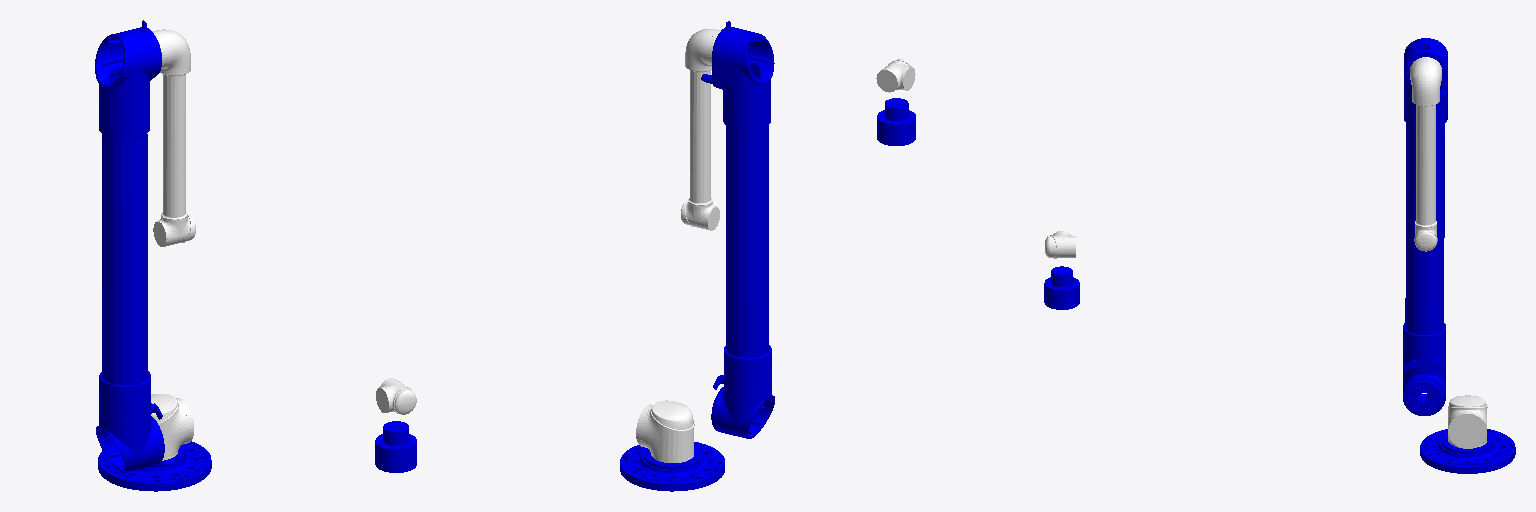
URDF robot description (arm):
<?xml version="1.0" ?>
<!-- =================================================================================== -->
<!-- |    This document was autogenerated by xacro from [local-path]/work/gazebo_ws/src/lunarPrinter/urdf/arm/arm.xacro | -->
<!-- |    EDITING THIS FILE BY HAND IS NOT RECOMMENDED                                 | -->
<!-- =================================================================================== -->
<robot name="arm">
    <!--#############################################-->
    <!-- 构建基座 -->
    <!--#############################################-->
    <link name="arm_base_link">
        <inertial>
            <origin rpy="0 0 0" xyz="-7.89007780837018E-05 0.0260795471385364 0.000250283055826241" />
            <mass value="0.168400023612511" />
            <inertia ixx="0.00175634288446034" ixy="-0.0705111471416143E-06" ixz="0.00000132536380514416" iyy="0.00339920630895577" iyz="0.0212062962173668E-05" izz="0.00175097307372981" />
        </inertial>
        <visual>
            <origin rpy="0 0 0" xyz="0 0 0" />
            <geometry>
                <mesh filename="package:// lunarPrinter/meshes/arm/base_link.STL" />
            </geometry>
            <material name="Blue">
                <color rgba="0 0 1 1" />
            </material>
        </visual>
        <collision>
            <origin rpy="0 0 0" xyz="0 0 0" />
            <geometry>
                <mesh filename="package:// lunarPrinter/meshes/arm/base_link.STL" />
            </geometry>
        </collision>
    </link>
    <!-- 设置关节坐标系 -->
    
    <link name="world"/>
    <joint name="fixed"  type="fixed">
        <origin xyz="0 0 1" rpy="0 0 0" />
        <parent link="world"/>
        <child link="arm_base_link"/>
    </joint>
   
    <!--#############################################-->
    <!-- 构建关节一 -->
    <!--#############################################-->
    <link name="link_1">
        <inertial>
            <origin rpy="0 0 0" xyz="0.0240592930415565 0.147960202341401 0.150275212212244" />
            <mass value="0.461935755619436" />
            <inertia ixx="0.00182892351491963" ixy="-0.00000106097607947388" ixz="0.0293650425485005E-06" iyy="0.00139480004434281" iyz="-0.0728873034095655E-05" izz="0.00155379054418068" />
        </inertial>
        <visual>
            <origin rpy="0 0 0" xyz="0 0 0" />
            <geometry>
                <mesh filename="package:// lunarPrinter/meshes/arm/link_1.STL" />
            </geometry>
            <material name="While">
                <color rgba="1 1 1 0.95" />
            </material>
        </visual>
        <collision>
            <origin rpy="0 0 0" xyz="0 0 0" />
            <geometry>
                <mesh filename="package:// lunarPrinter/meshes/arm/link_1.STL" />
            </geometry>
        </collision>
    </link>
    <joint name="joint_1" type="revolute">
        <origin rpy="0 0 3.1416" xyz="0 0 0.054" />
        <parent link="arm_base_link" />
        <child link="link_1" />
        <axis xyz="0 0 1" />
        <limit effort="20" lower="-6.2831853" upper="6.2831853" velocity="2.0943951" />
    </joint>
    <!--#############################################-->
    <!-- 构建关节二 -->
    <!--#############################################-->
    <link name="link_2">
        <inertial>
            <origin rpy="0 0 0" xyz="-0.00741058119634522 0.838316036295861 0.102815693133785" />
            <mass value="0.242374252720559" />
            <inertia ixx="0.01249" ixy="0.0000015288" ixz="-0.000026305" iyy="0.0020173" iyz="0.000030011" izz="0.012505" />
        </inertial>
        <visual>
            <origin rpy="0 0 0" xyz="0 0 0" />
            <geometry>
                <mesh filename="package:// lunarPrinter/meshes/arm/link_2.STL" />
            </geometry>
            <material name="Blue">
                <color rgba="0 0 1 1" />
            </material>
        </visual>
        <collision>
            <origin rpy="0 0 0" xyz="0 0 0" />
            <geometry>
                <mesh filename="package:// lunarPrinter/meshes/arm/link_2.STL" />
            </geometry>
        </collision>
    </link>
    <!--
    <joint name="joint_2" type="fixed">
        <origin xyz="0 0.164 0" rpy="1.5708 -1.5708 3.1416" />
        <parent link="link_1" />
        <child link="link_2" />
    </joint>
    -->
    <joint name="joint_2" type="revolute">
        <origin rpy="1.5708 0 1.5686" xyz="0.11845 0.19974 0.175" />
        /&gt;
        <parent link="link_1" />
        <child link="link_2" />
        <axis xyz="0 0 1" />
        <limit effort="50" lower="-3.14159265" upper="3.14159265" velocity="2.0943951" />
    </joint>
    <!--#############################################-->
    <!-- 构建关节三 -->
    <!--#############################################-->
    <link name="link_3">
        <inertial>
            <origin rpy="0 0 0" xyz="0.260661701543515 0.086562345757625 0.0904582129864851" />
            <mass value="0.415021573008086" />
            <inertia ixx="0.00448434081189012" ixy="-0.00305014121987798" ixz="-0.000391459265336423" iyy="0.00893193211636663" iyz="-0.000138785013334083" izz="0.0110643474031866" />
        </inertial>
        <visual>
            <origin rpy="0 0 0" xyz="0 0 0" />
            <geometry>
                <mesh filename="package:// lunarPrinter/meshes/arm/link_3.STL" />
            </geometry>
            <material name="While">
                <color rgba="1 1 1 0.95" />
            </material>
        </visual>
        <collision>
            <origin rpy="0 0 0" xyz="0 0 0" />
            <geometry>
                <mesh filename="package:// lunarPrinter/meshes/arm/link_3.STL" />
            </geometry>
        </collision>
    </link>
    <!--
    <joint name="joint_3" type="fixed">
        <origin xyz="0.608 0 0" rpy="0 0 0" />
        <parent link="link_2" />
        <child link="link_3" />
    </joint>
    -->
    <joint name="joint_3" type="revolute">
        <origin rpy="3.1416 0 0" xyz="-0.0080695 1.65 0.003" />
        <parent link="link_2" />
        <child link="link_3" />
        <axis xyz="0 0 1" />
        <limit effort="50" lower="-3.14159265" upper="3.14159265" velocity="3.14159265" />
    </joint>
    <!--#############################################-->
    <!-- 构建关节四 -->
    <!--#############################################-->
    <link name="link_4">
        <inertial>
            <origin rpy="0 0 0" xyz="-0.0031147 -0.00083318 0.090676" />
            <mass value="0.041922" />
            <inertia ixx="0.00022992" ixy="0.019927E-06" ixz="-0.027983E-05" iyy="0.00016034" iyz="0.028486E-06" izz="0.00012089" />
        </inertial>
        <visual>
            <origin rpy="0 0 0" xyz="0 0 0" />
            <geometry>
                <mesh filename="package:// lunarPrinter/meshes/arm/link_4.STL" />
            </geometry>
            <material name="Blue">
                <color rgba="0 0 1 1" />
            </material>
        </visual>
        <collision>
            <origin rpy="0 0 0" xyz="0 0 0" />
            <geometry>
                <mesh filename="package:// lunarPrinter/meshes/arm/link_4.STL" />
            </geometry>
        </collision>
    </link>
    <!--
    <joint name="joint_4" type="fixed">
        <origin xyz="0.566 0 0" rpy="0 0 1.5708" />
        <parent link="link_3" />
        <child link="link_4" />
    </joint>
    -->
    <joint name="joint_4" type="revolute">
        <origin rpy="0.50789 -1.5708 3.14159265" xyz="1.5248 0.74569 0.1255" />
        <parent link="link_3" />
        <child link="link_4" />
        <axis xyz="0 0 1" />
        <limit effort="10" lower="-6.2831853" upper="6.2831853" velocity="3.14159265" />
    </joint>
    <!--#############################################-->
    <!-- 构建关节五 -->
    <!--#############################################-->
    <link name="link_5">
        <inertial>
            <origin xyz="-5.13810008009319E-05 0.0631532787550311 0.0576399105925339" rpy="0 0 0" />
            <mass value="0.025" />
            <inertia ixx="0.000034092146499895" ixy="0.0354033055425707E-07" ixz="-0.0226564220026257E-06" iyy="0.0000396941822314873" iyz="-0.00000131806839548867" izz="0.0000295296609100218" />
        </inertial>
        <visual>
            <origin rpy="0 0 0" xyz="0 0 0" />
            <geometry>
                <mesh filename="package:// lunarPrinter/meshes/arm/link_5.STL" />
            </geometry>
            <material name="While">
                <color rgba="1 1 1 0.95" />
            </material>
        </visual>
        <collision>
            <origin rpy="0 0 0" xyz="0 0 0" />
            <geometry>
                <mesh filename="package:// lunarPrinter/meshes/arm/link_5.STL" />
            </geometry>
        </collision>
    </link>
    <joint name="joint_5" type="revolute">
        <origin rpy="1.5708 -1.0629 1.5708" xyz="-0.0615 0 0.167" />
        <parent link="link_4" />
        <child link="link_5" />
        <axis xyz="0 0 1" />
        <limit effort="5" lower="-6.2831853" upper="6.2831853" velocity="3.14159265" />
    </joint>
    <!--
    <joint name="joint_5" type="fixed">
        <origin xyz="0 -0.126 0" rpy="1.5708 0 0" />
        <parent link="link_4" />
        <child link="link_5" />
    </joint>
    -->
    <!--#############################################-->
    <!-- 构建关节六 -->
    <!--#############################################-->
    <link name="link_6">
        <inertial>
            <origin rpy="0 0 0" xyz="-7.78457159844592E-17 -2.1094237467878E-14 -0.0648864905098758" />
            <mass value="0.2" />
            <inertia ixx="0.0006352" ixy="-2.1853E-08" ixz="-5.0851E-09" iyy="0.00063521" iyz="-6.8675E-10" izz="0.0005861" />
        </inertial>
        <visual>
            <origin rpy="0 0 0" xyz="0 0 0" />
            <geometry>
                <mesh filename="package:// lunarPrinter/meshes/arm/link_6.STL" />
            </geometry>
            <material name="Blue">
                <color rgba="0 0 1 1" />
            </material>
        </visual>
        <collision>
            <origin rpy="0 0 0" xyz="0 0 0" />
            <geometry>
                <mesh filename="package:// lunarPrinter/meshes/arm/link_6.STL" />
            </geometry>
        </collision>
    </link>
    <joint name="joint_6" type="revolute">
        <origin rpy="-1.5708 1.5686 0" xyz="0 0.2856 0.0615" />
        <parent link="link_5" />
        <child link="link_6" />
        <axis xyz="0 0 1" />
        <limit effort="5" lower="-6.2831853" upper="6.2831853" velocity="3.14159265" />
    </joint>
    <!--
    <joint name="joint_6" type="fixed">
        <origin xyz="0 0.113 0" rpy="-1.5708 0 0" />
        <parent link="link_5" />
        <child link="link_6" />
    </joint>
    -->
    <!--#############################################-->
    <!-- 控制-->
    <!--#############################################-->
    <gazebo>
        <plugin filename="libgazebo_ros_control.so" name="gazebo_ros_control">
            <robotNamespace>/</robotNamespace>
            <controlPeriod>0.001</controlPeriod>
            <robotSimType>gazebo_ros_control/DefaultRobotHWSim</robotSimType>
            <legacyMode>false</legacyMode>
        </plugin>
    </gazebo>
    <gazebo reference="base_link">
        <material>Gazebo/DarkGrey</material>
    </gazebo>
    <!--
    <gazebo reference="link_1">
        <material>Gazebo/FlatBlack</material>
    </gazebo>
    -->
    <gazebo reference="link_2">
        <material>Gazebo/DarkGrey</material>
    </gazebo>
    <!--
    <gazebo reference="link_3">
        <material>Gazebo/FlatBlack</material>
    </gazebo>
    -->
    <gazebo reference="link_4">
        <material>Gazebo/DarkGrey</material>
    </gazebo>
    <!--
    <gazebo reference="link_5">
        <material>Gazebo/FlatBlack</material>
    </gazebo>
    -->
    <gazebo reference="link_6">
        <material>Gazebo/DarkGrey</material>
    </gazebo>
    <transmission name="joint_1_trans">
        <type>transmission_interface/SimpleTransmission</type>
        <joint name="joint_1">
            <hardwareInterface>hardware_interface/EffortJointInterface</hardwareInterface>
        </joint>
        <actuator name="joint_1_motor">
            <mechanicalReduction>1</mechanicalReduction>
            <hardwareInterface>hardware_interface/EffortJointInterface</hardwareInterface>
        </actuator>
    </transmission>
    <transmission name="joint_2_trans">
        <type>transmission_interface/SimpleTransmission</type>
        <joint name="joint_2">
            <hardwareInterface>hardware_interface/EffortJointInterface</hardwareInterface>
        </joint>
        <actuator name="joint_2_motor">
            <mechanicalReduction>1</mechanicalReduction>
            <hardwareInterface>hardware_interface/EffortJointInterface</hardwareInterface>
        </actuator>
    </transmission>
    <transmission name="joint_3_trans">
        <type>transmission_interface/SimpleTransmission</type>
        <joint name="joint_3">
            <hardwareInterface>hardware_interface/EffortJointInterface</hardwareInterface>
        </joint>
        <actuator name="joint_3_motor">
            <mechanicalReduction>1</mechanicalReduction>
            <hardwareInterface>hardware_interface/EffortJointInterface</hardwareInterface>
        </actuator>
    </transmission>
    <transmission name="joint_4_trans">
        <type>transmission_interface/SimpleTransmission</type>
        <joint name="joint_4">
            <hardwareInterface>hardware_interface/EffortJointInterface</hardwareInterface>
        </joint>
        <actuator name="joint_4_motor">
            <mechanicalReduction>1</mechanicalReduction>
            <hardwareInterface>hardware_interface/EffortJointInterface</hardwareInterface>
        </actuator>
    </transmission>
    <transmission name="joint_5_trans">
        <type>transmission_interface/SimpleTransmission</type>
        <joint name="joint_5">
            <hardwareInterface>hardware_interface/EffortJointInterface</hardwareInterface>
        </joint>
        <actuator name="joint_5_motor">
            <mechanicalReduction>1</mechanicalReduction>
            <hardwareInterface>hardware_interface/EffortJointInterface</hardwareInterface>
        </actuator>
    </transmission>
    <transmission name="joint_6_trans">
        <type>transmission_interface/SimpleTransmission</type>
        <joint name="joint_6">
            <hardwareInterface>hardware_interface/EffortJointInterface</hardwareInterface>
        </joint>
        <actuator name="joint_6_motor">
            <mechanicalReduction>1</mechanicalReduction>
            <hardwareInterface>hardware_interface/EffortJointInterface</hardwareInterface>
        </actuator>
    </transmission>
</robot>

--- What the picture shows (computed from the rendered views, not written in the file) ---
Views: 3 orthographic renders of the robot side by side, from view 1: azimuth 30°, elevation 25°; view 2: azimuth 150°, elevation 25°; view 3: azimuth 270°, elevation 25°.
Robot: arm — 8 links, 7 joints (6 revolute, 1 fixed); root link world; default pose: every joint at zero.
Visible links, largest first — view 1: link_2, link_3, arm_base_link, link_6, link_1, link_5; view 2: link_2, link_3, arm_base_link, link_1, link_6, link_5; view 3: link_2, link_3, arm_base_link, link_1, link_6, link_5.
Boxes of the visible links, <box> form: link_2: <box>95,20,164,472</box>; link_3: <box>152,29,195,246</box>; arm_base_link: <box>98,441,211,491</box>; link_6: <box>375,421,416,472</box>; link_1: <box>151,394,193,460</box>; link_5: <box>376,378,416,414</box>; link_2: <box>701,21,774,438</box>; link_3: <box>681,29,720,230</box>; arm_base_link: <box>620,442,724,491</box>; link_1: <box>636,400,694,462</box>; link_6: <box>877,98,915,145</box>; link_5: <box>876,59,915,92</box>; link_2: <box>1403,38,1447,415</box>; link_3: <box>1410,57,1441,251</box>; arm_base_link: <box>1420,429,1515,473</box>; link_1: <box>1448,395,1487,448</box>; link_6: <box>1044,266,1079,309</box>; link_5: <box>1045,231,1075,258</box>.
Size in the robot's own frame: 0.5655 by 2.16 by 2.01 metres.
Meshes: 7 distinct files referenced, 6 mesh visuals loaded (6 binary STL); not drawn: 1 (reference not matched to a file when rendering).
